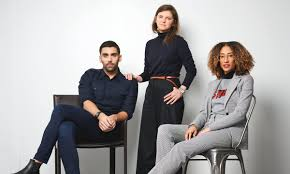person: (209, 42, 248, 73), (98, 40, 122, 72), (153, 4, 177, 33)
